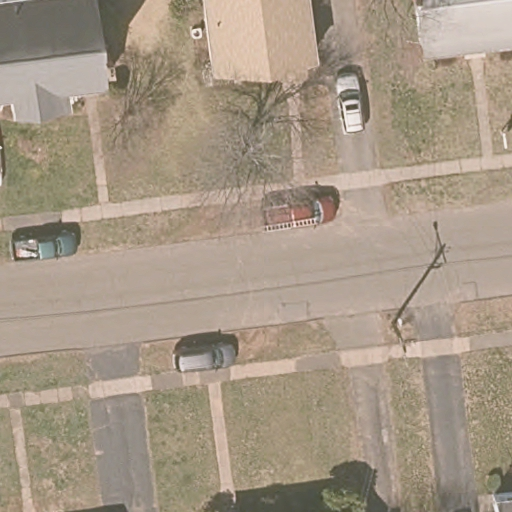DT: (389, 320, 419, 366)
